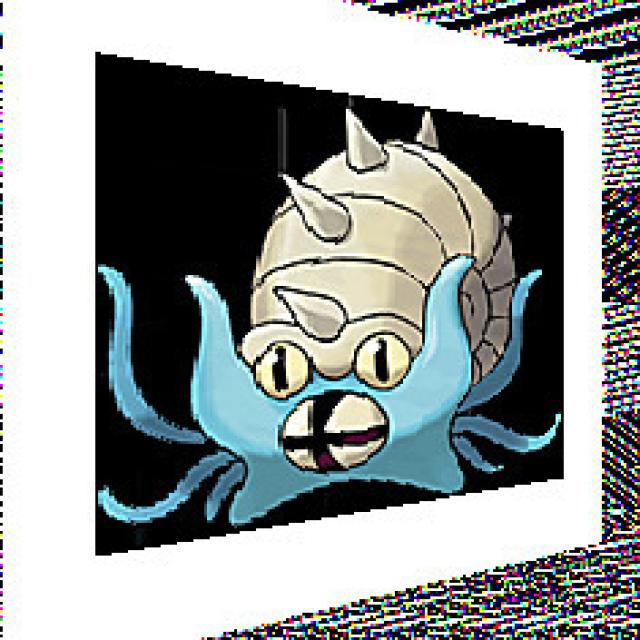Omastar: (184, 107, 523, 494)
